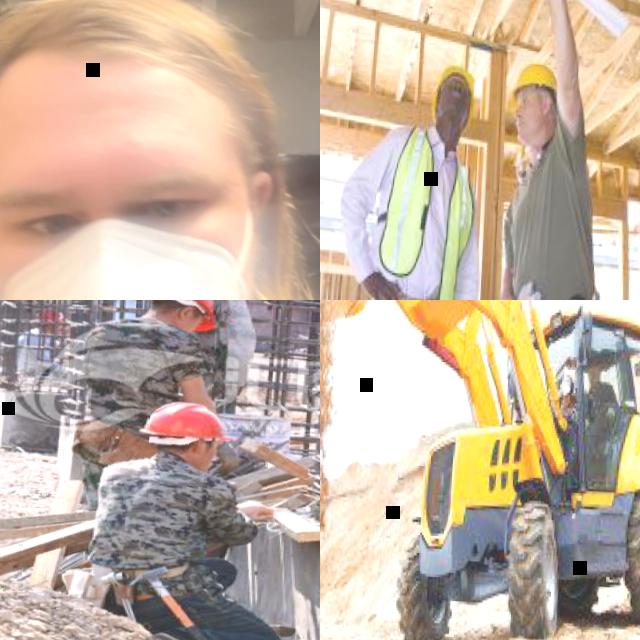Hardhat: (141, 397, 240, 449), (145, 300, 221, 336), (432, 63, 477, 123), (509, 63, 558, 92), (30, 304, 71, 325)
Mask: (0, 212, 258, 300)
NO-Hardhat: (0, 0, 257, 174), (587, 362, 603, 374)
NO-Mask: (516, 110, 544, 146), (442, 91, 466, 116), (173, 315, 200, 335), (196, 451, 215, 472), (588, 375, 602, 385)
NO-Safety Vest: (88, 457, 230, 590), (66, 313, 195, 436), (509, 140, 595, 300), (18, 333, 60, 379), (586, 382, 616, 421)
Person: (0, 0, 320, 300), (73, 398, 297, 640), (323, 54, 491, 300), (488, 0, 624, 300), (69, 300, 223, 499), (580, 360, 622, 484), (19, 305, 72, 387)
Safety Vest: (378, 127, 476, 300)
vehicle: (320, 300, 640, 640)
